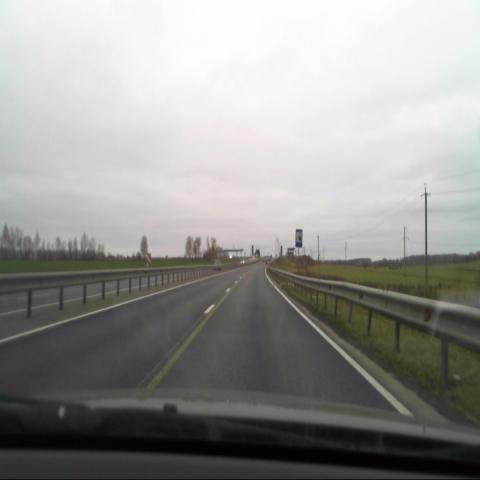7_3: (295, 228, 302, 246)
